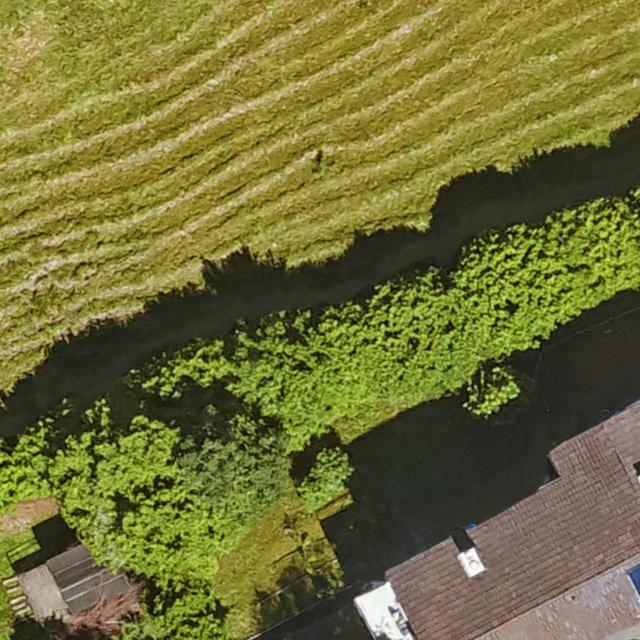tree: (55, 423, 225, 579), (174, 407, 288, 521), (117, 585, 226, 640), (464, 361, 522, 424), (299, 444, 354, 509)
